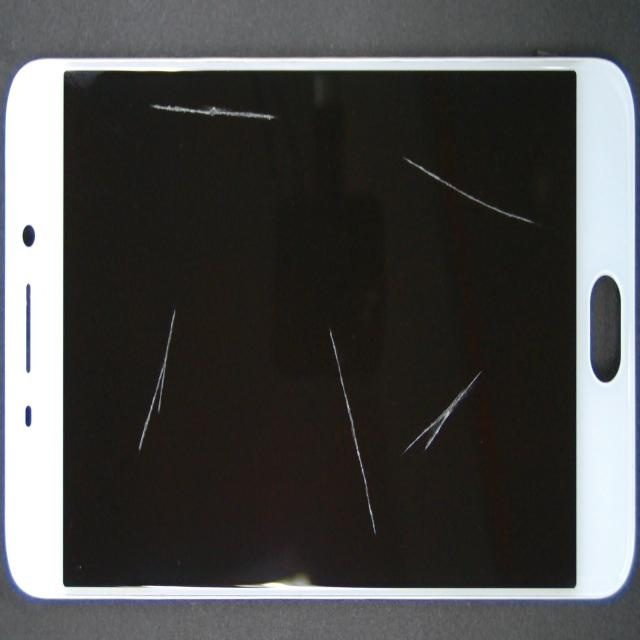scratch: (172, 297, 550, 640)
